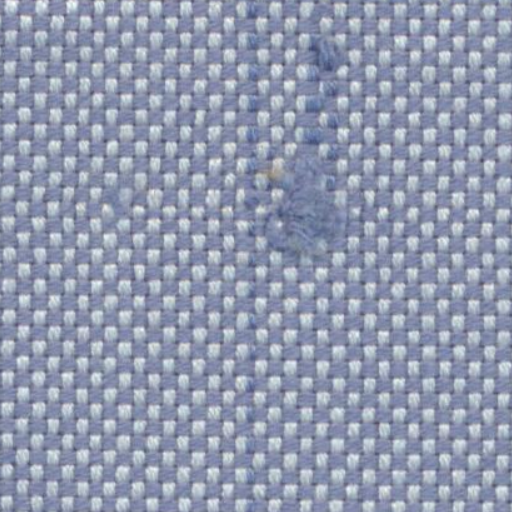DuanSha: (261, 34, 365, 251)
